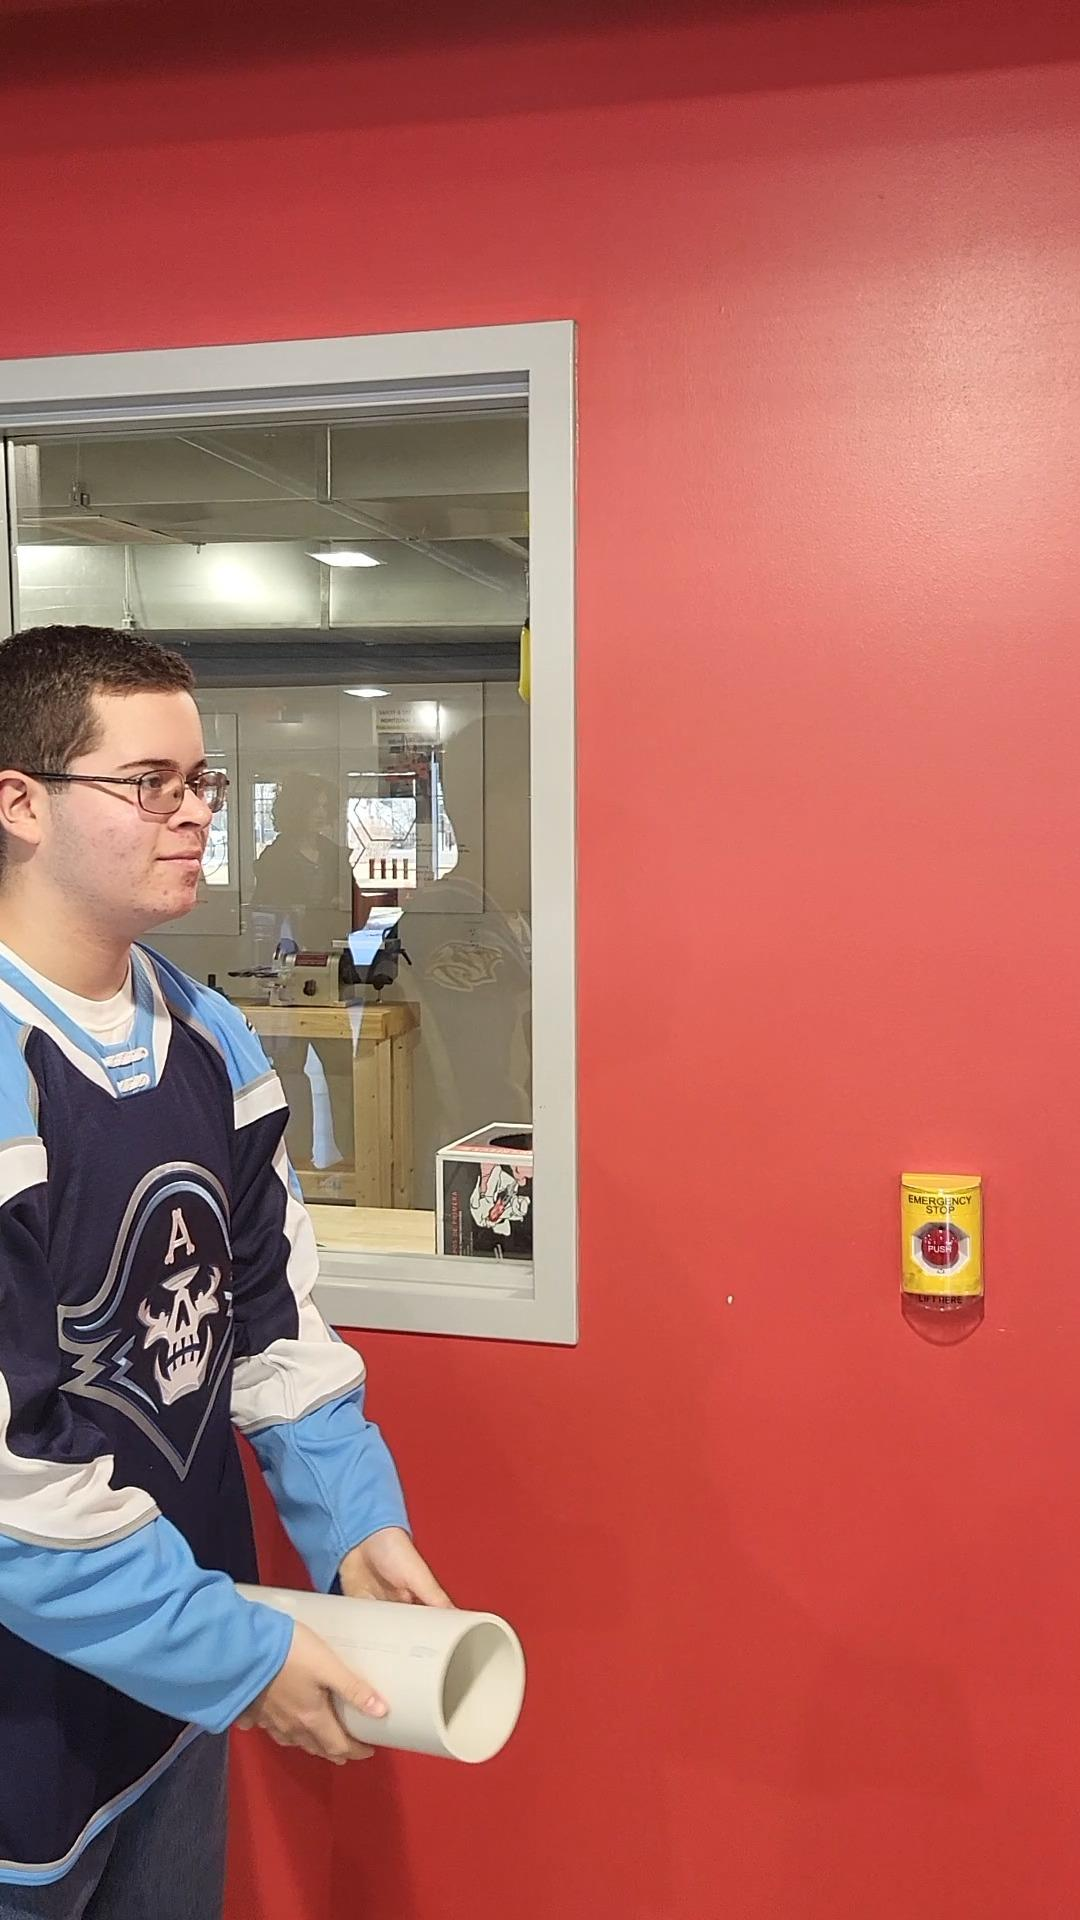coral: (210, 1581, 537, 1763)
